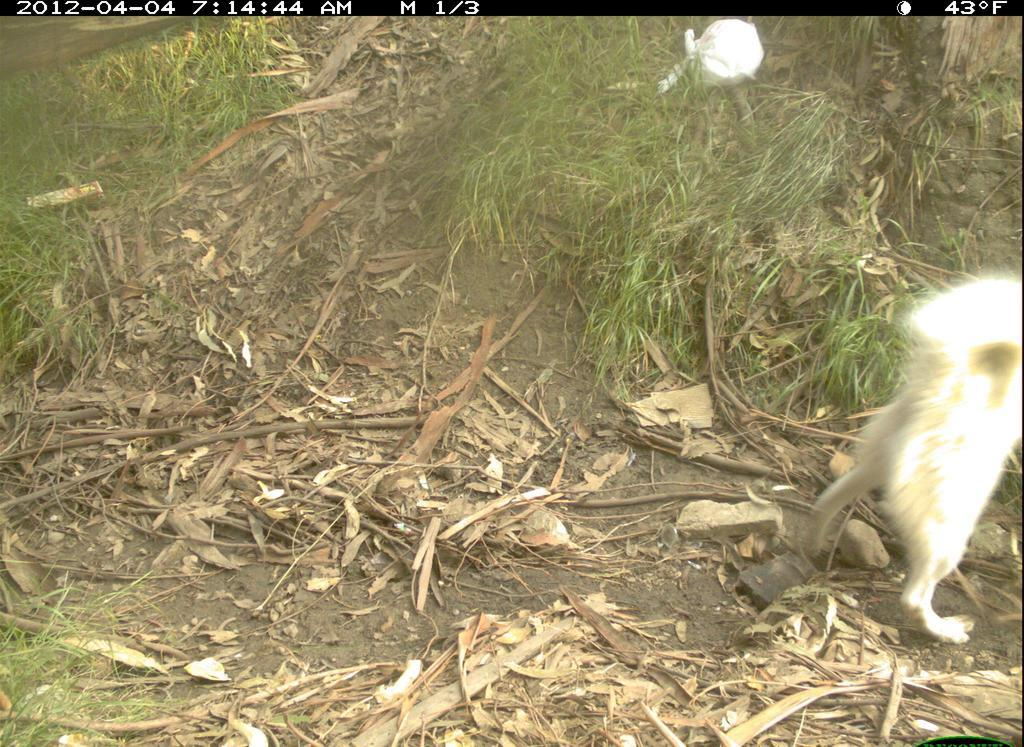dog: (801, 254, 1023, 657)
